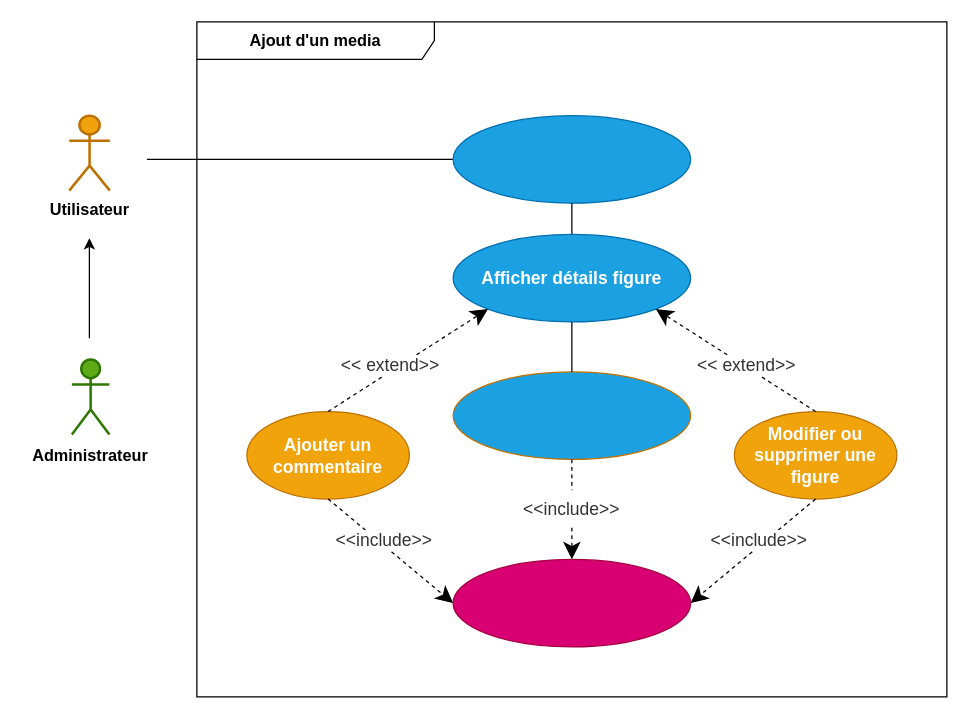
The diagram is 969 pixels wide and 719 high, and some of its shapes have lost their labels. Here are the shapes that lost their labels. From the top down, the centre of each, then its label:
At point 571,158: "Page Accueil".
At point 571,415: "Ajout d'un média".
At point 571,602: "Authentification".
